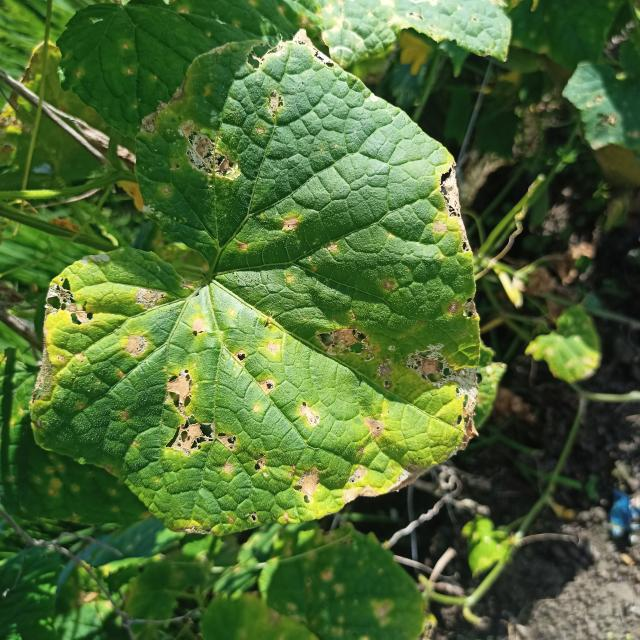disease_cucumber: (34, 40, 478, 518)
